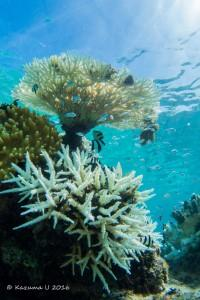bleached_corals: (0, 110, 188, 300), (3, 35, 168, 175)
